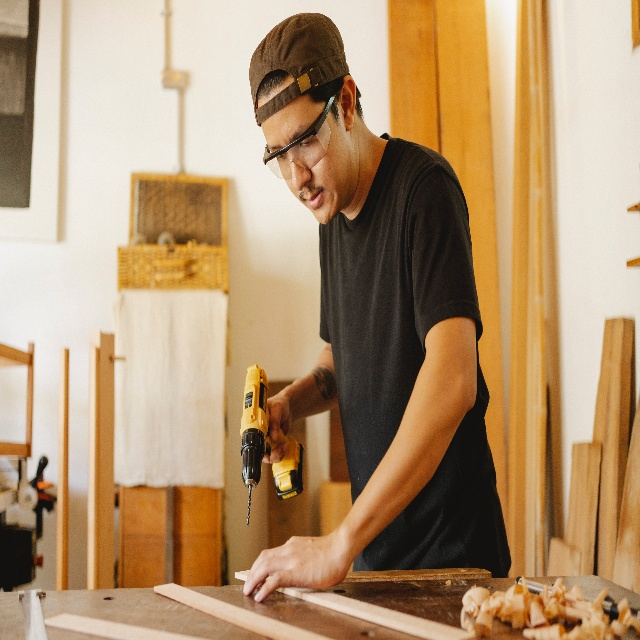Gafas: (263, 92, 335, 180)
Sin_guantes: (243, 532, 348, 603), (262, 395, 292, 465)
